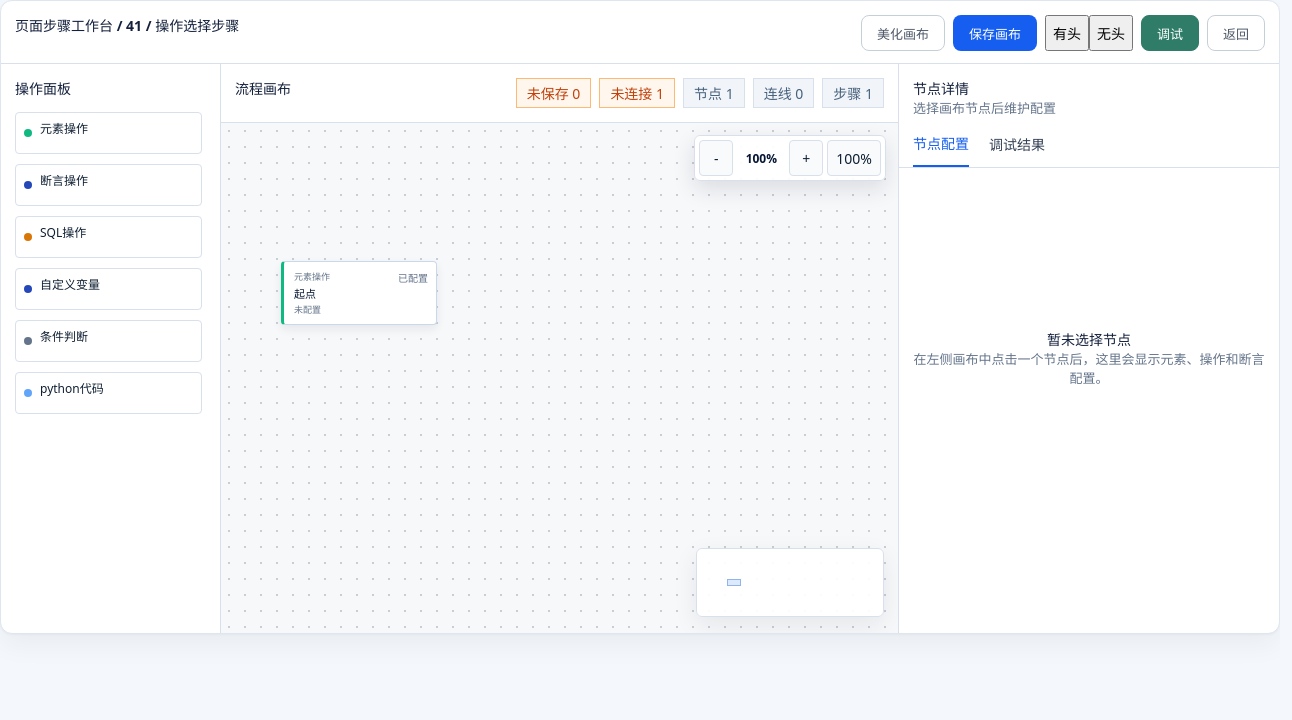
it: 节点操作选择器 › 点击触发弹出下拉面板，切换分类并选择操作回填
Press the mouse on the button "元素操作 起点 未配置 已配置" at (359, 293), box [281,261,437,325]
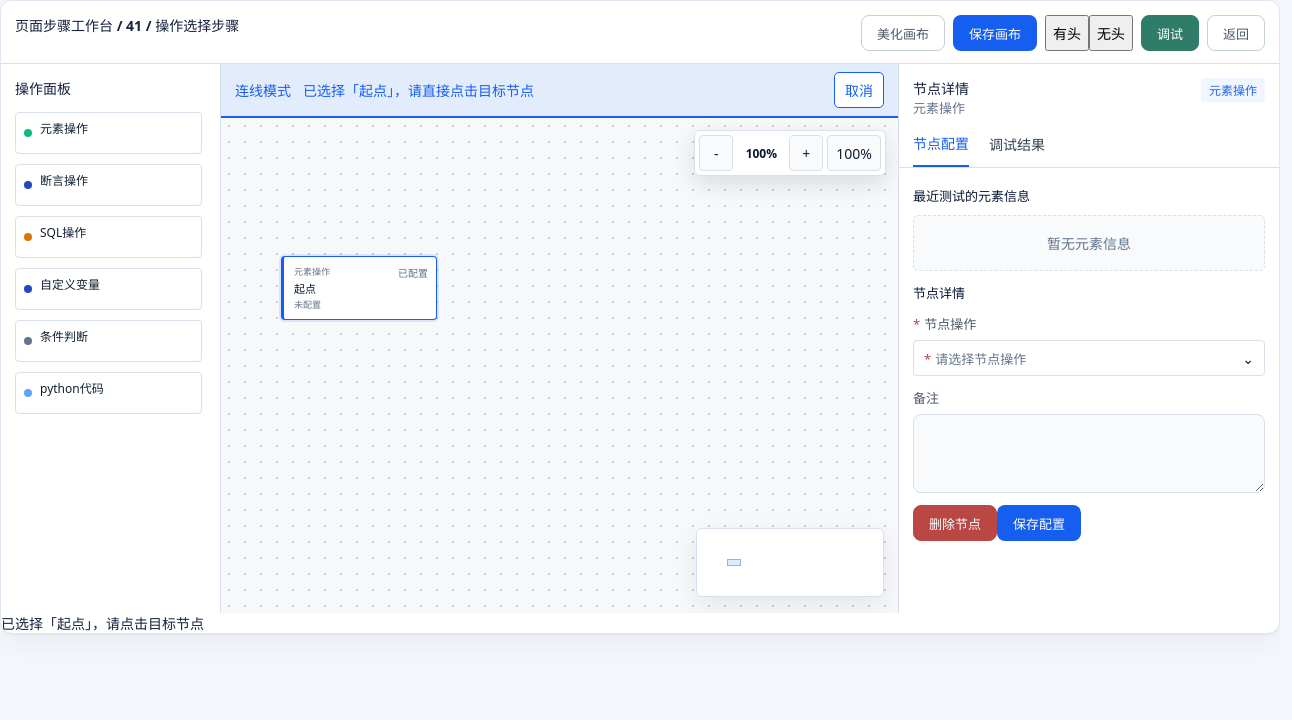
Click the button "请选择节点操作 ⌄" at (981, 358), box [913,340,1265,376]
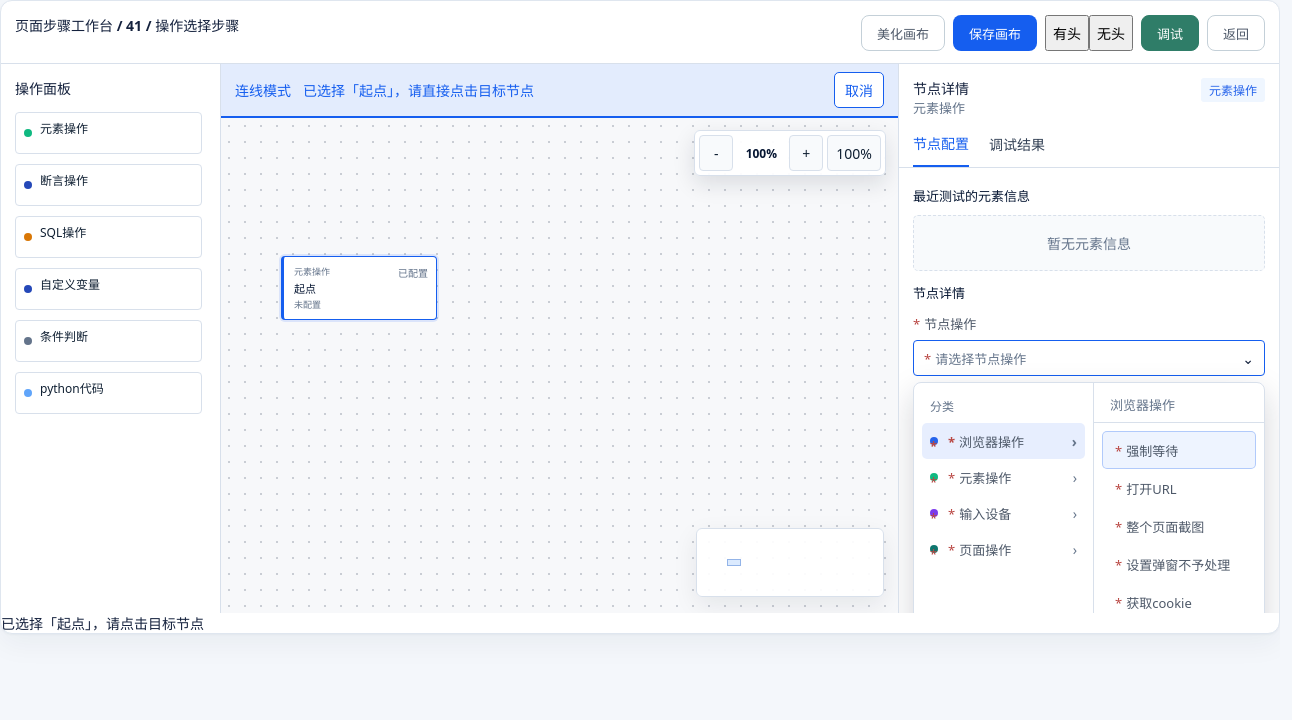
Now the list named "操作列表" is shown, box [1094,383,1264,613]
Now the text "强制等待" is shown, box [1115,440,1178,460]
Click the list item "元素操作 ›" at (1004, 477), box [922,459,1085,495]
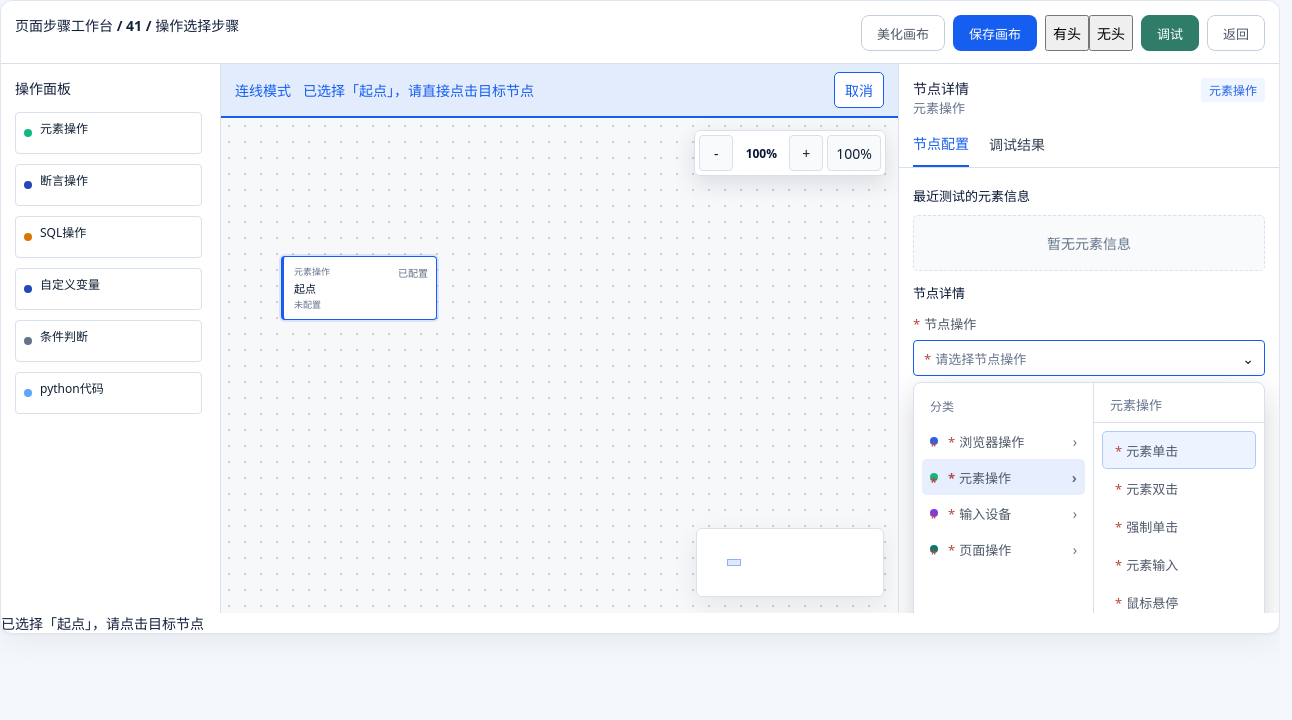
Now the text "元素单击" is shown, box [1115,440,1178,460]
Click the option "元素单击" at (1179, 450), box [1102,431,1256,469]
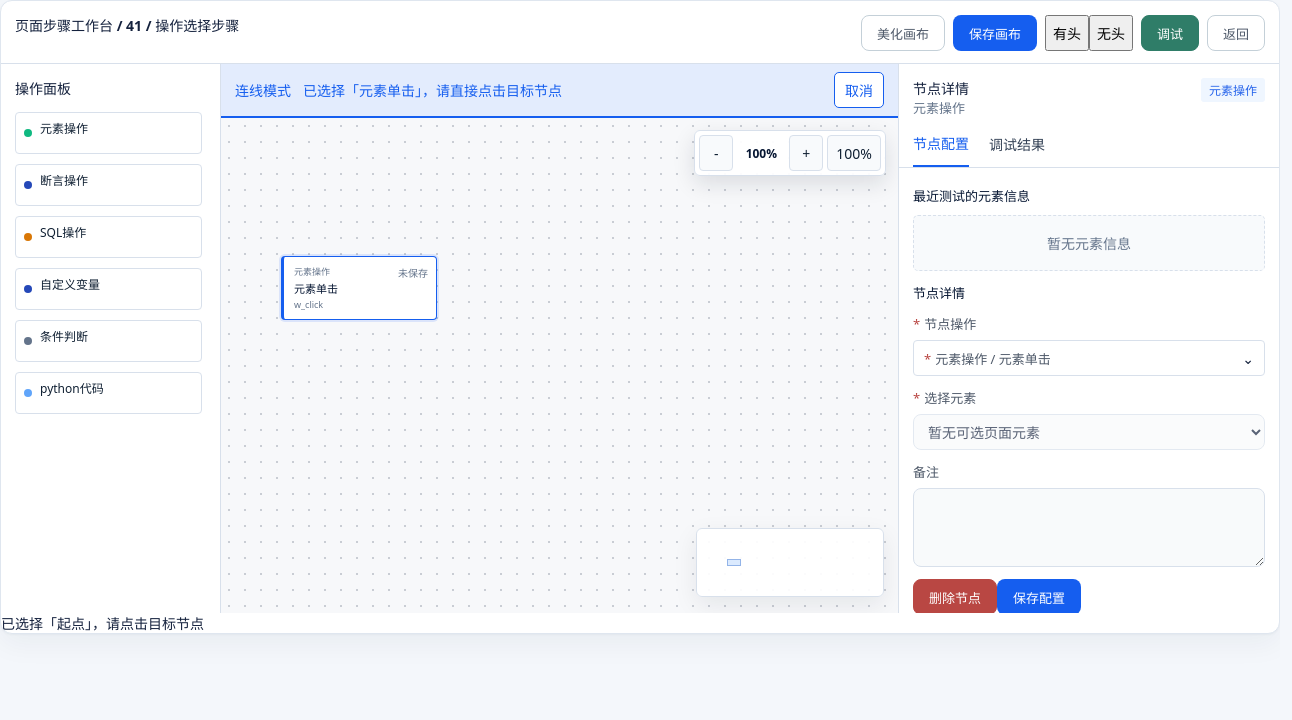
Now the button "元素操作 / 元素单击 ⌄" is shown, box [913,340,1265,376]
